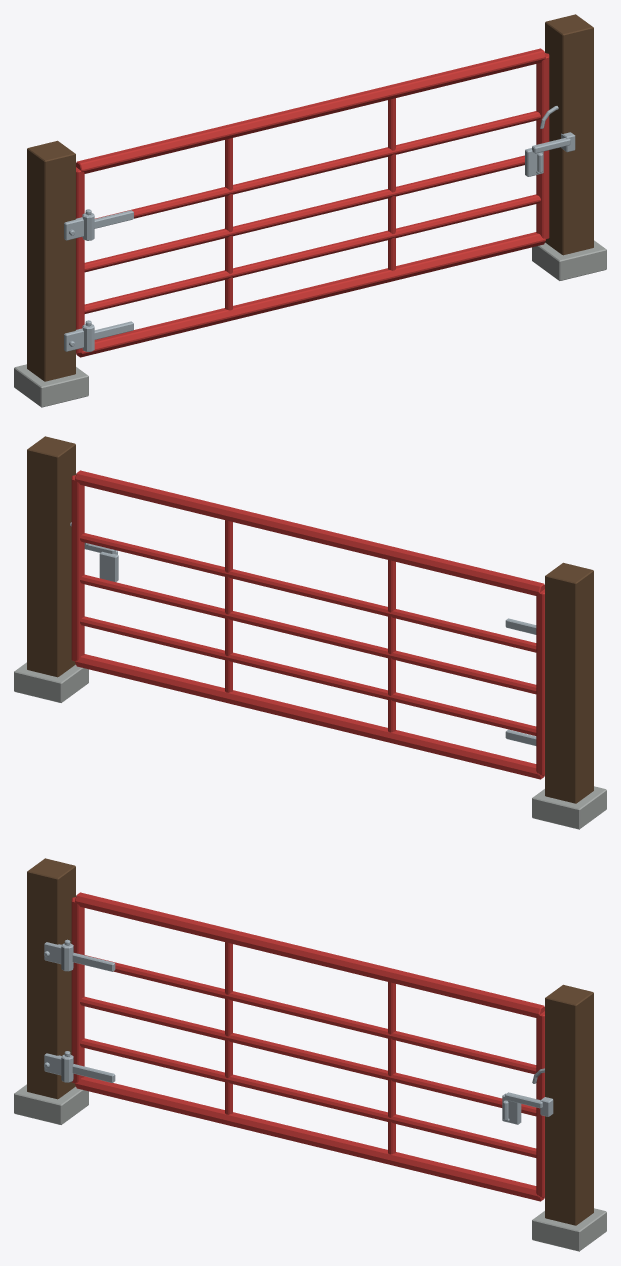
The model's file is b19_tubular_field_gate.glb.
The picture shows the model from 3 angles, top to bottom: view 1: azimuth 30°, elevation 25°; view 2: azimuth 150°, elevation 25°; view 3: azimuth 330°, elevation 25°; orthographic projection.
Parts seen in each view (by area): view 1: b19_tubular_field_gate; view 2: b19_tubular_field_gate; view 3: b19_tubular_field_gate.
Boxes of the visible parts, x1,y1,x2,y2 form: b19_tubular_field_gate: (14,14,606,407); b19_tubular_field_gate: (14,436,606,829); b19_tubular_field_gate: (14,858,606,1251).
Size of the model in its own units: 3.41 by 1.39 by 0.3397.
